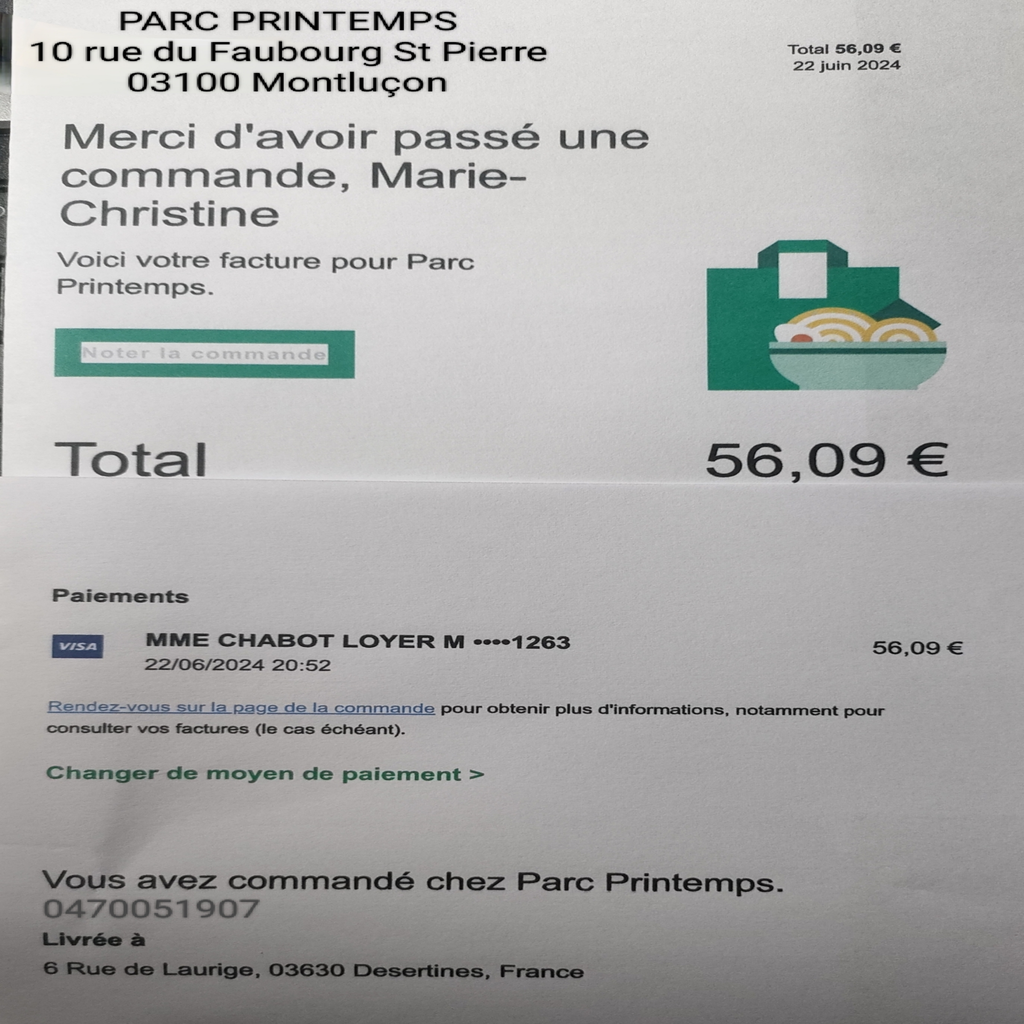recipt: (2, 2, 1009, 999)
